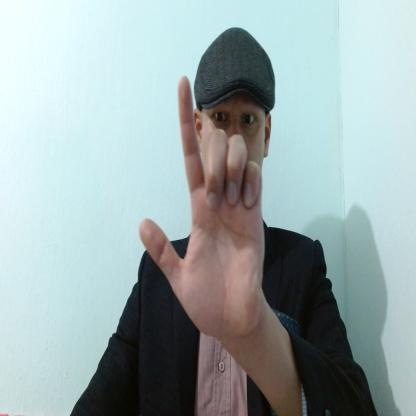L: (140, 76, 264, 338)
